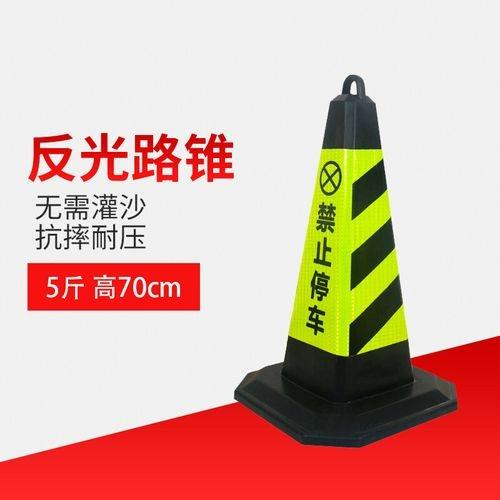cone_barrel: (254, 70, 434, 440)
